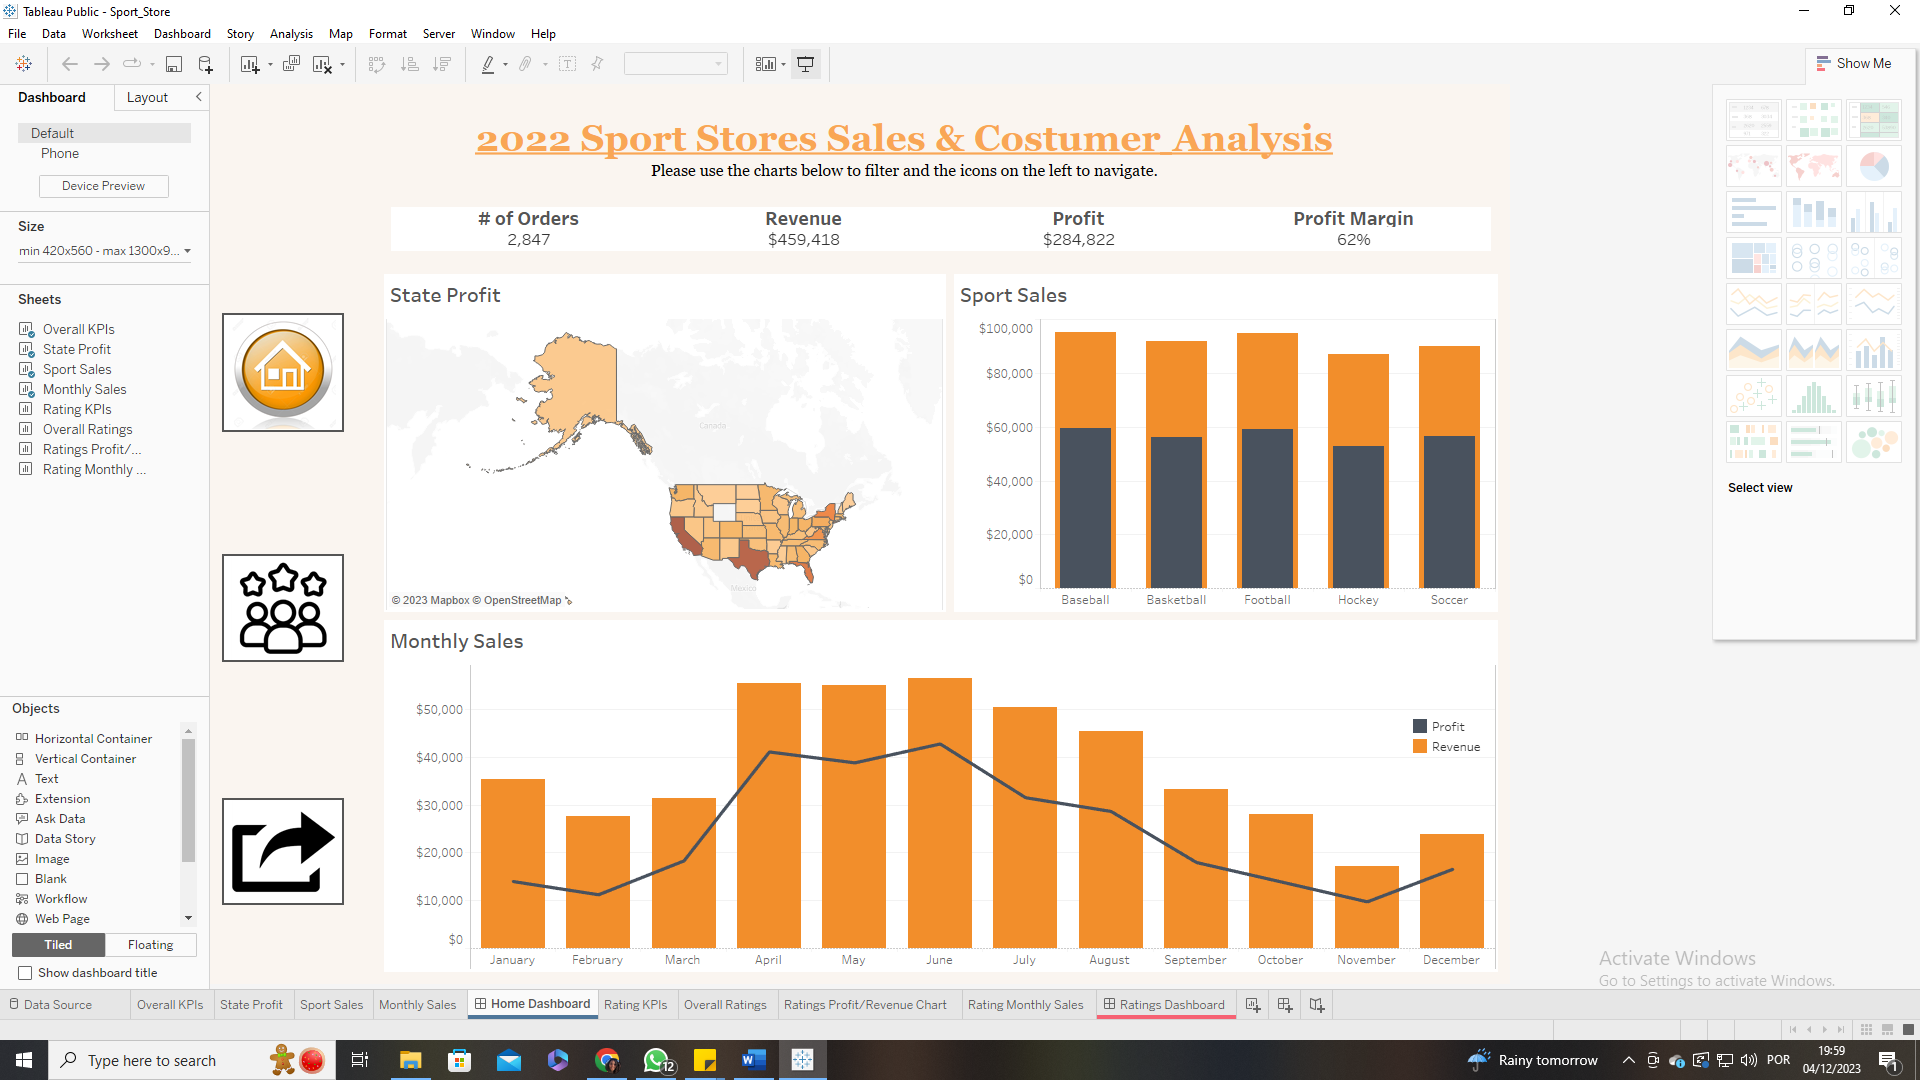

What the dashboard file says about the page in this screenshot:
{"tool":"tableau","page":{"name":"Home Dashboard","canvas":[1000,1000],"units":"permille","ordinal":0},"visuals":[{"type":"blank","box":[6.2,8.9,68.5,115.5]},{"type":"text","box":[74.6,8.9,919.2,115.5]},{"type":"blank","box":[6.2,124.4,124.6,67.8]},{"type":"worksheet","title":"Overall KPIs","mark":"Automatic","box":[132.3,126.7,860,77.8]},{"type":"blank","box":[6.2,192.2,100,57.8]},{"type":"blank","box":[106.2,192.2,24.6,798.9]},{"type":"worksheet","title":"State Profit","mark":"Automatic","box":[130.8,206.7,438.1,385]},{"type":"worksheet","title":"Sport Sales","mark":"Bar","rows":["revenue","profit"],"cols":["sport"],"box":[568.9,206.7,425,385]},{"type":"dashboard-object","box":[6.2,250,100,141.1]},{"type":"blank","box":[6.2,391.1,100,123.3]},{"type":"dashboard-object","box":[6.2,517.8,100,128.9]},{"type":"worksheet","title":"Monthly Sales","mark":"Bar","rows":["revenue","profit"],"cols":["date"],"box":[130.8,591.7,863.1,399.4]},{"type":"blank","box":[6.2,646.7,100,142.2]},{"type":"dashboard-object","box":[6.2,788.9,100,127.8]}]}

Visuals, with their boxes on the dashboard's canvas, which has no fixed pixel size, in thousandths of its width and height (x1, y1, x2, y2). These are canvas units, not pixel positions in the 1920x1080 screenshot, which may show the page scaled, cropped or inside an application window:
blank: (6,9,75,124)
text: (75,9,994,124)
blank: (6,124,131,192)
"Overall KPIs" worksheet: (132,127,992,204)
blank: (6,192,106,250)
blank: (106,192,131,991)
"State Profit" worksheet: (131,207,569,592)
"Sport Sales" worksheet (Bar marks): (569,207,994,592)
dashboard-object: (6,250,106,391)
blank: (6,391,106,514)
dashboard-object: (6,518,106,647)
"Monthly Sales" worksheet (Bar marks): (131,592,994,991)
blank: (6,647,106,789)
dashboard-object: (6,789,106,917)
